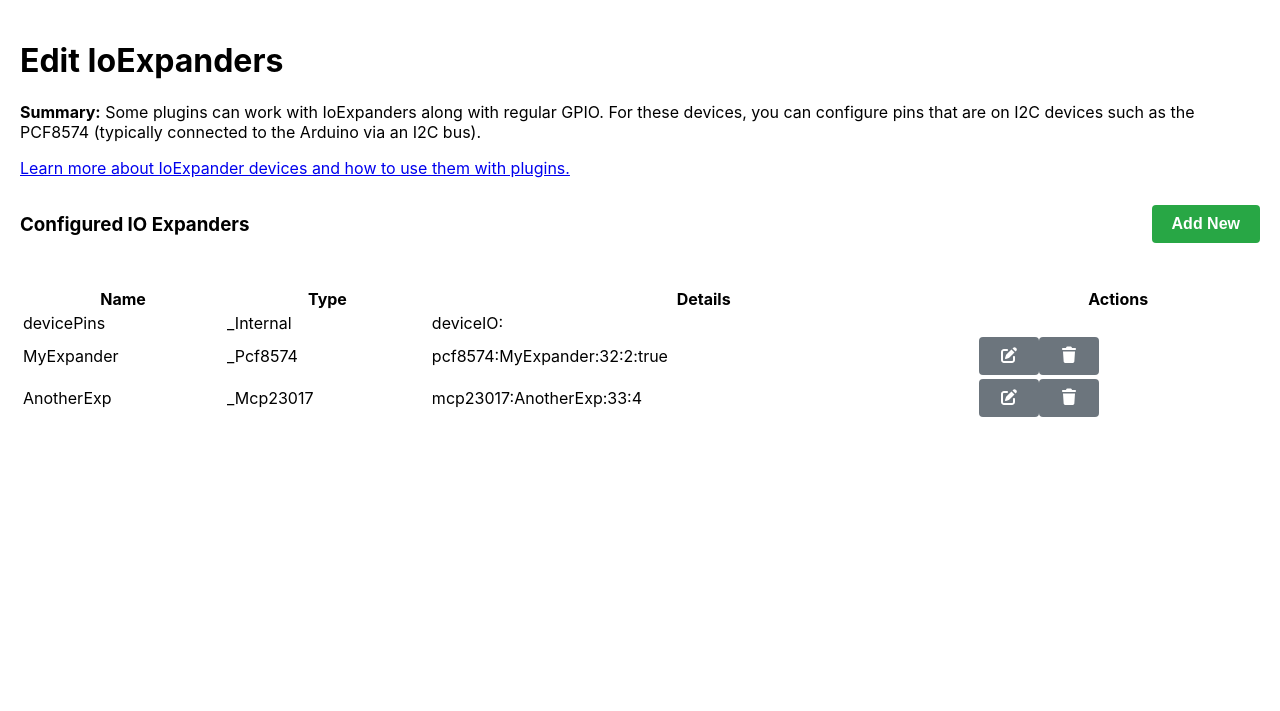
Test case: IoExpanderComponent › allows editing an existing expander
Click the button titled "Edit" in the row of "_Pcf8574" at point(1009, 356), box [979, 337, 1039, 375]
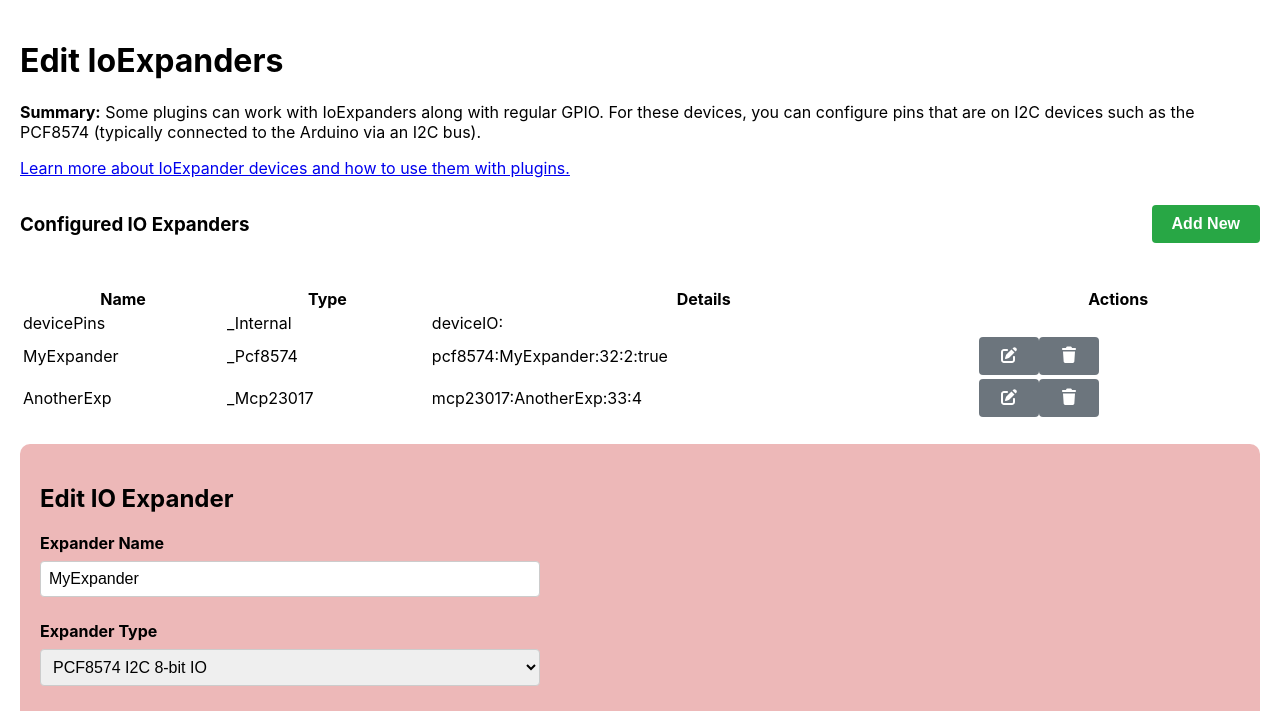
Replace the text in the field labelled "Expander Name" with "RenamedExp" at point(290, 579), box [40, 561, 540, 597]
(page scrolled)
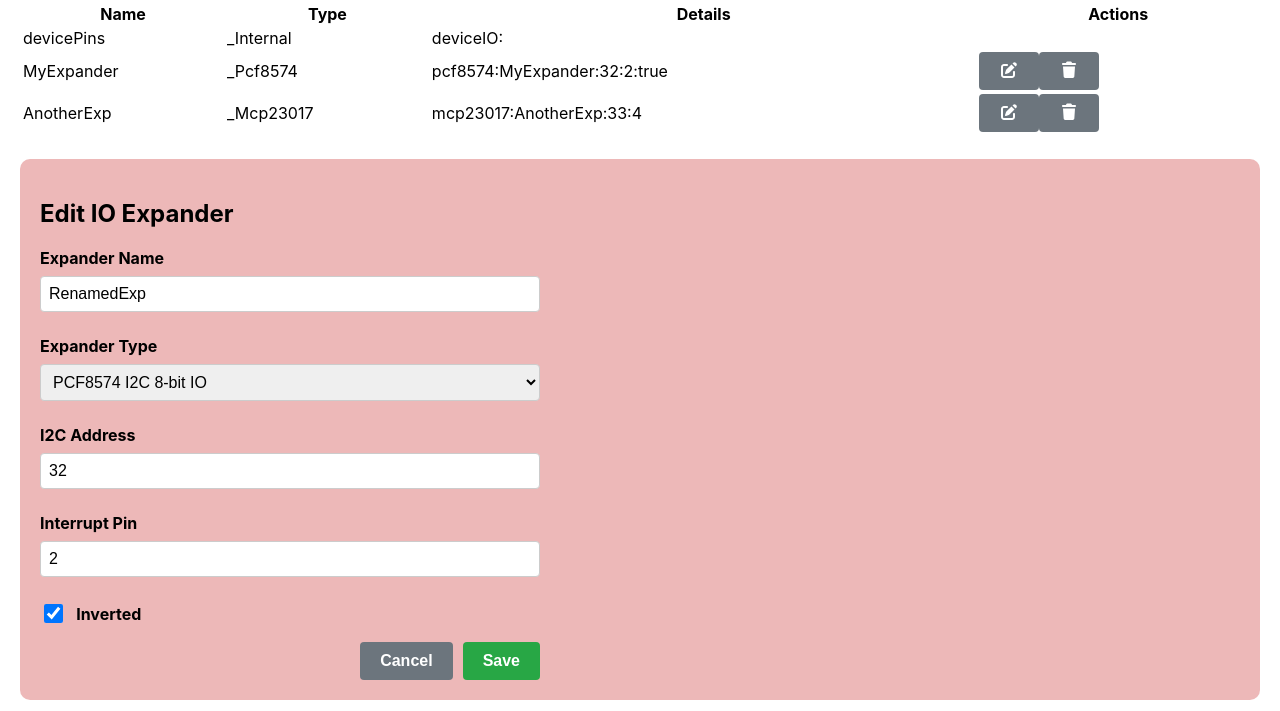
Click the button "Save" at point(501, 661), box [463, 642, 540, 680]
(page scrolled)
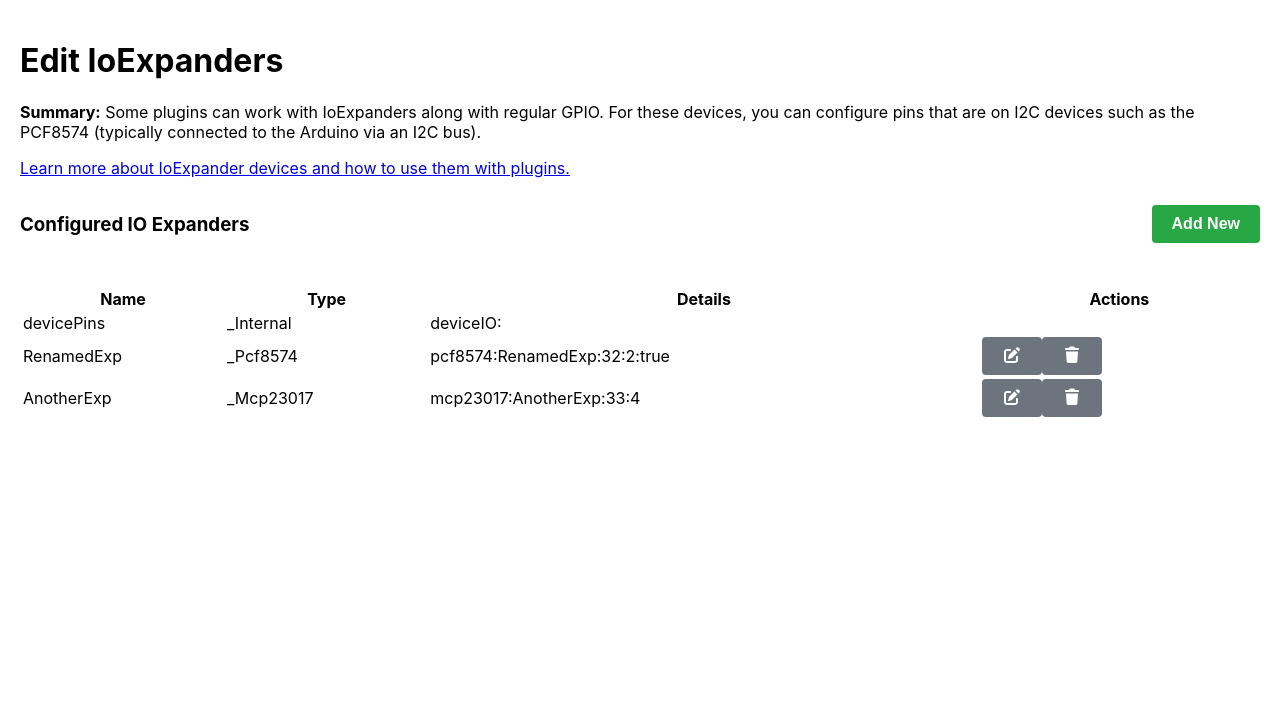
Expected: the cell "pcf8574:RenamedExp:32:2:true" is shown, [429, 336, 979, 376]
